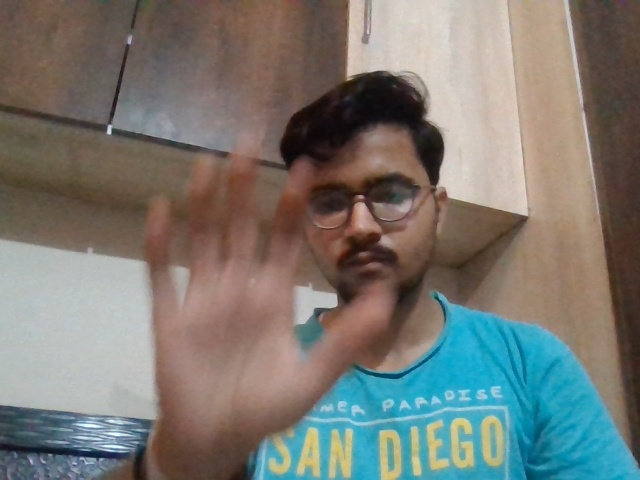hello: (124, 155, 398, 441)
